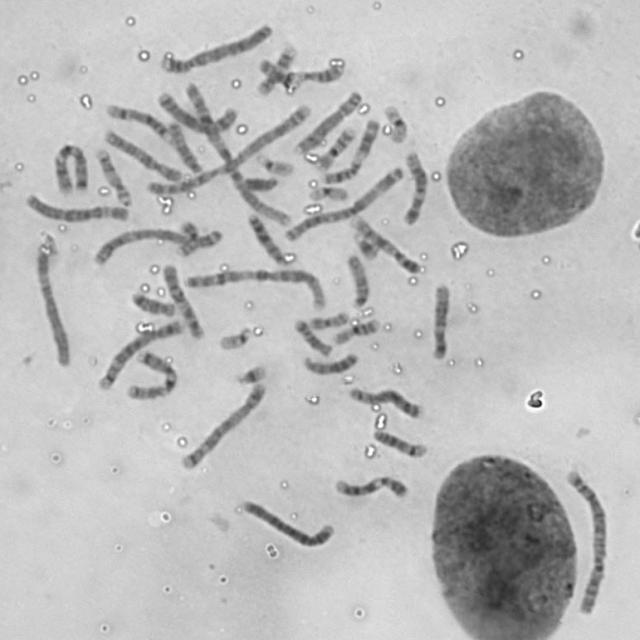A1: (176, 74, 295, 231), (182, 263, 330, 311)
A2: (140, 99, 316, 198), (561, 466, 612, 616)
A3: (280, 162, 408, 243), (90, 222, 218, 268)
B4: (157, 18, 276, 75), (237, 494, 339, 550)
B5: (175, 376, 269, 472), (93, 314, 187, 392)
C10: (100, 124, 186, 182), (158, 260, 206, 341)
C11: (318, 113, 383, 185), (255, 54, 346, 86)
C12: (398, 146, 430, 227), (427, 279, 453, 362)
C6: (30, 244, 74, 369), (22, 189, 132, 224)
C7: (122, 345, 181, 401), (49, 138, 91, 196)
C8: (290, 86, 364, 155), (345, 381, 427, 421)
C9: (346, 211, 423, 275), (329, 470, 412, 501)
D13: (244, 208, 290, 266), (300, 348, 360, 377)
D14: (102, 99, 174, 144), (367, 424, 430, 460)
D15: (164, 119, 204, 176), (342, 250, 372, 310)
E16: (313, 121, 359, 172), (328, 314, 382, 346)
E17: (90, 144, 134, 208), (253, 40, 300, 97)
E18: (290, 314, 334, 358), (127, 287, 178, 317)
F19: (379, 100, 411, 146), (303, 180, 351, 204)
F20: (173, 215, 201, 258), (306, 307, 351, 331)
G21: (348, 228, 382, 261), (231, 360, 269, 386)
G22: (252, 147, 297, 177), (214, 322, 254, 352)
X: (154, 87, 242, 137)
Y: (240, 171, 280, 193)
